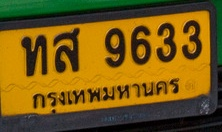txt18: (20, 33, 49, 78)
txt35: (52, 27, 81, 74)
